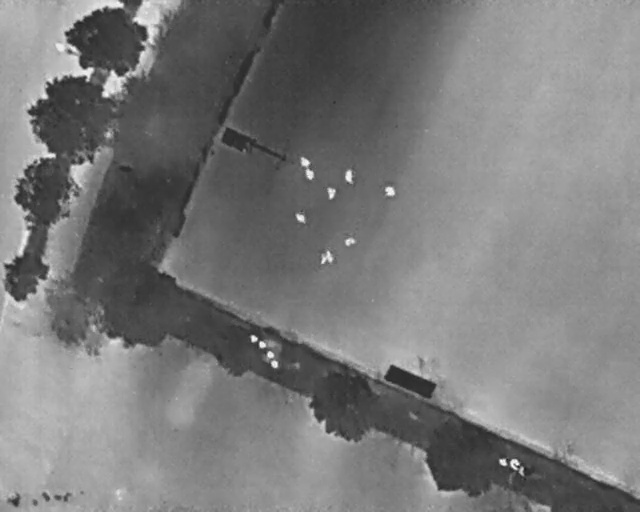Person: (291, 208, 309, 226), (319, 249, 334, 266), (382, 184, 398, 199), (342, 234, 358, 249), (303, 166, 316, 182), (344, 168, 354, 186), (326, 187, 337, 200), (300, 155, 311, 167)
